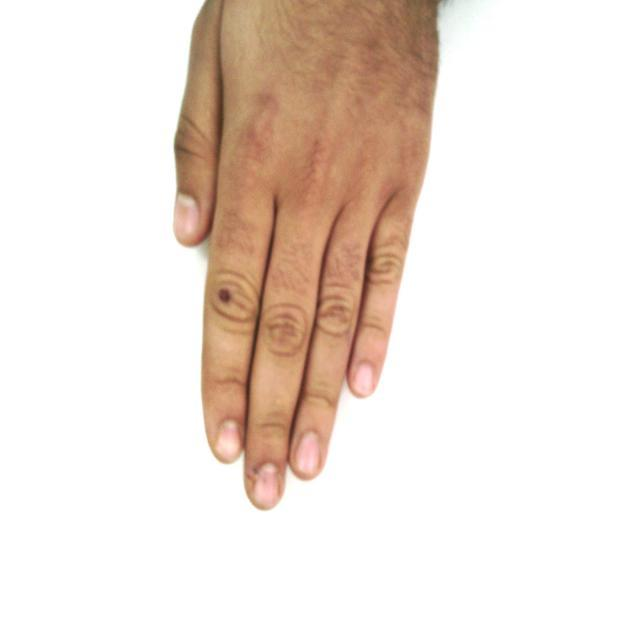Fingernail: (295, 432, 320, 476), (255, 465, 279, 507), (176, 196, 199, 238), (218, 423, 241, 459), (353, 363, 373, 394)
